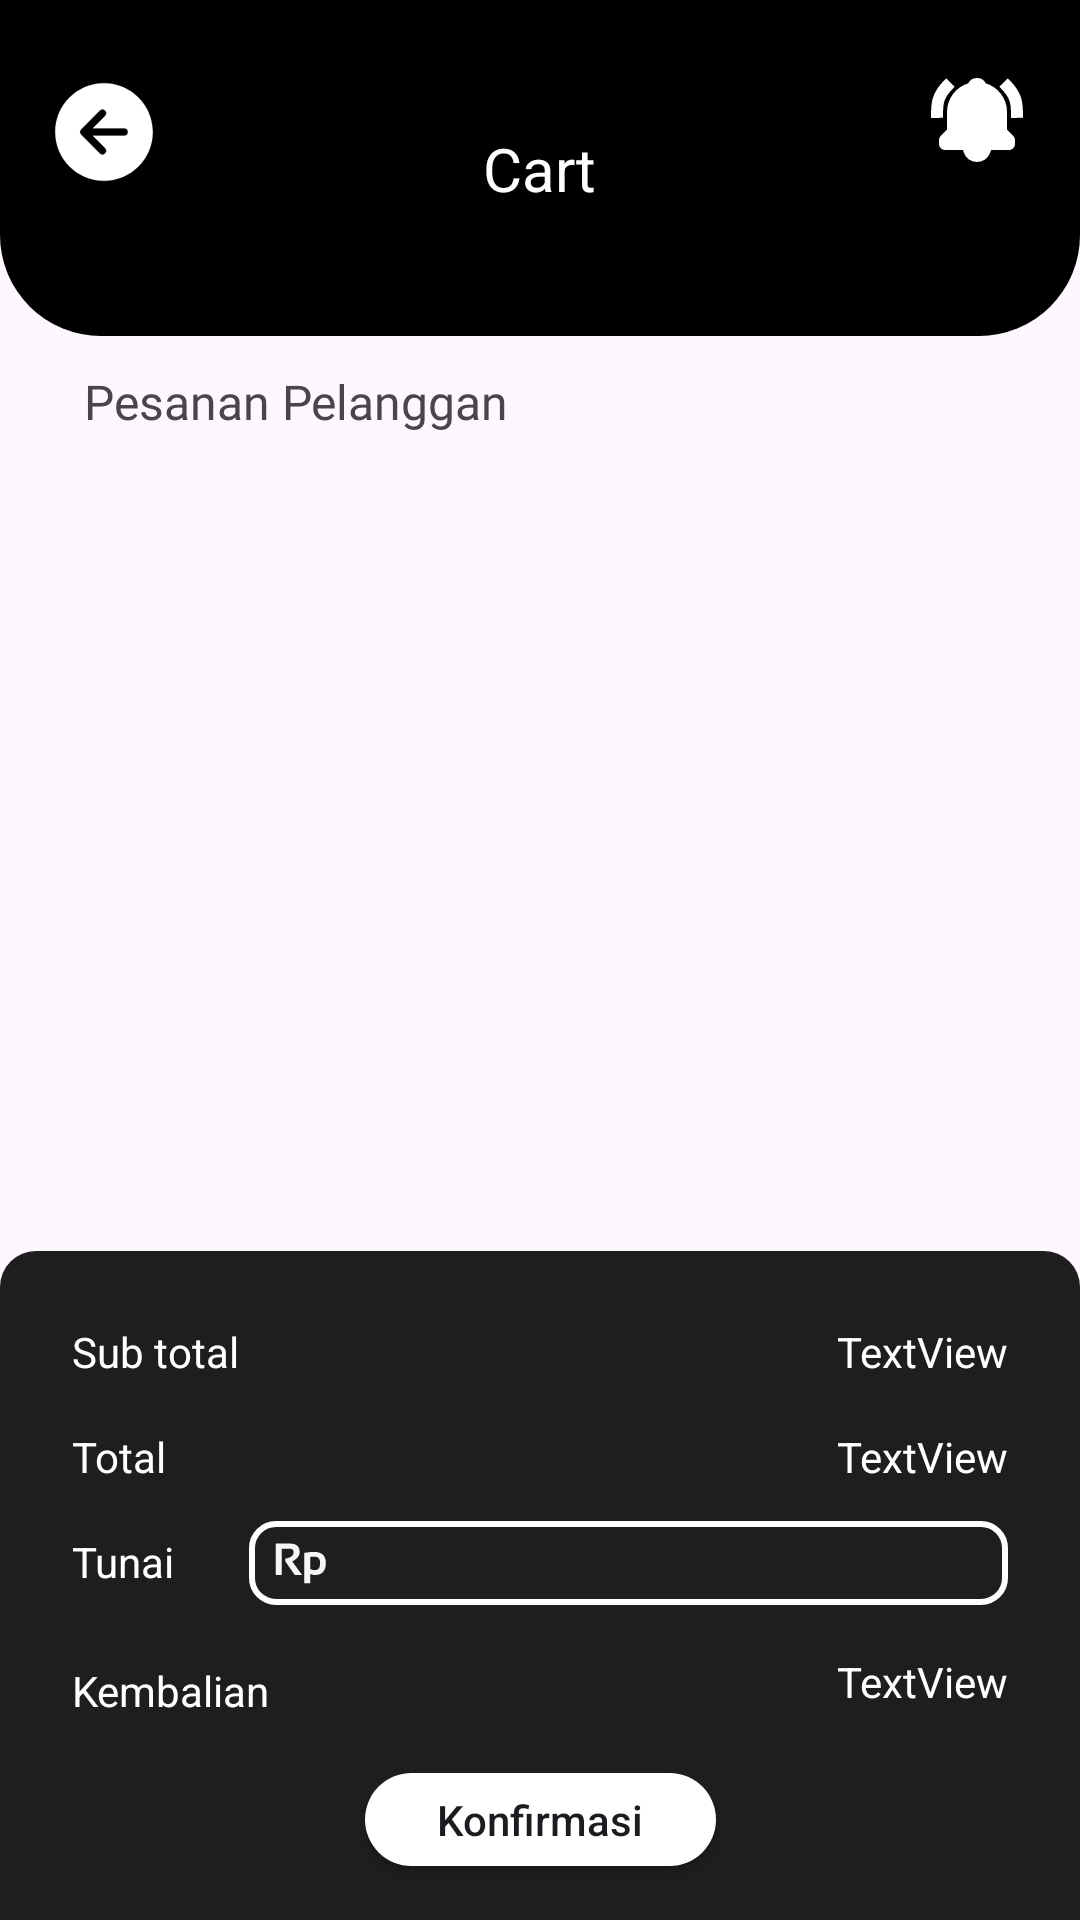

Point at icon controls on the screen. Image size 1080px x 1920px, points as [x,y].
arrow back circle: [104,132]
bell ring: [977,120]
